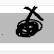not correct: (15, 6, 44, 38)
